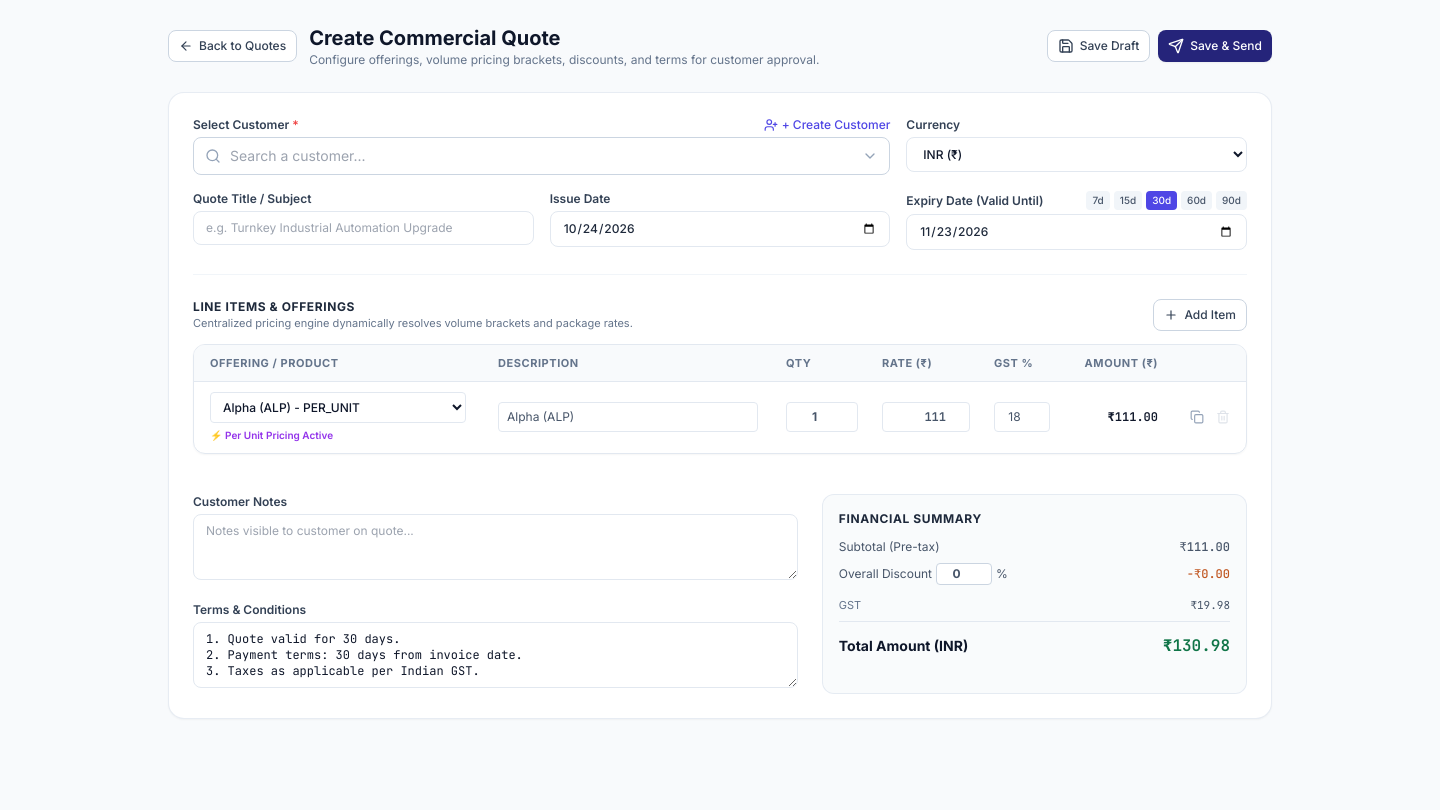
Test case: <QuoteFormPage /> archived offerings › adds new lines as a blank Custom Item that offers only active offerings
The image size is (1440, 810).
Click the button "Add Item": click(1200, 315) [1153,299,1247,331]
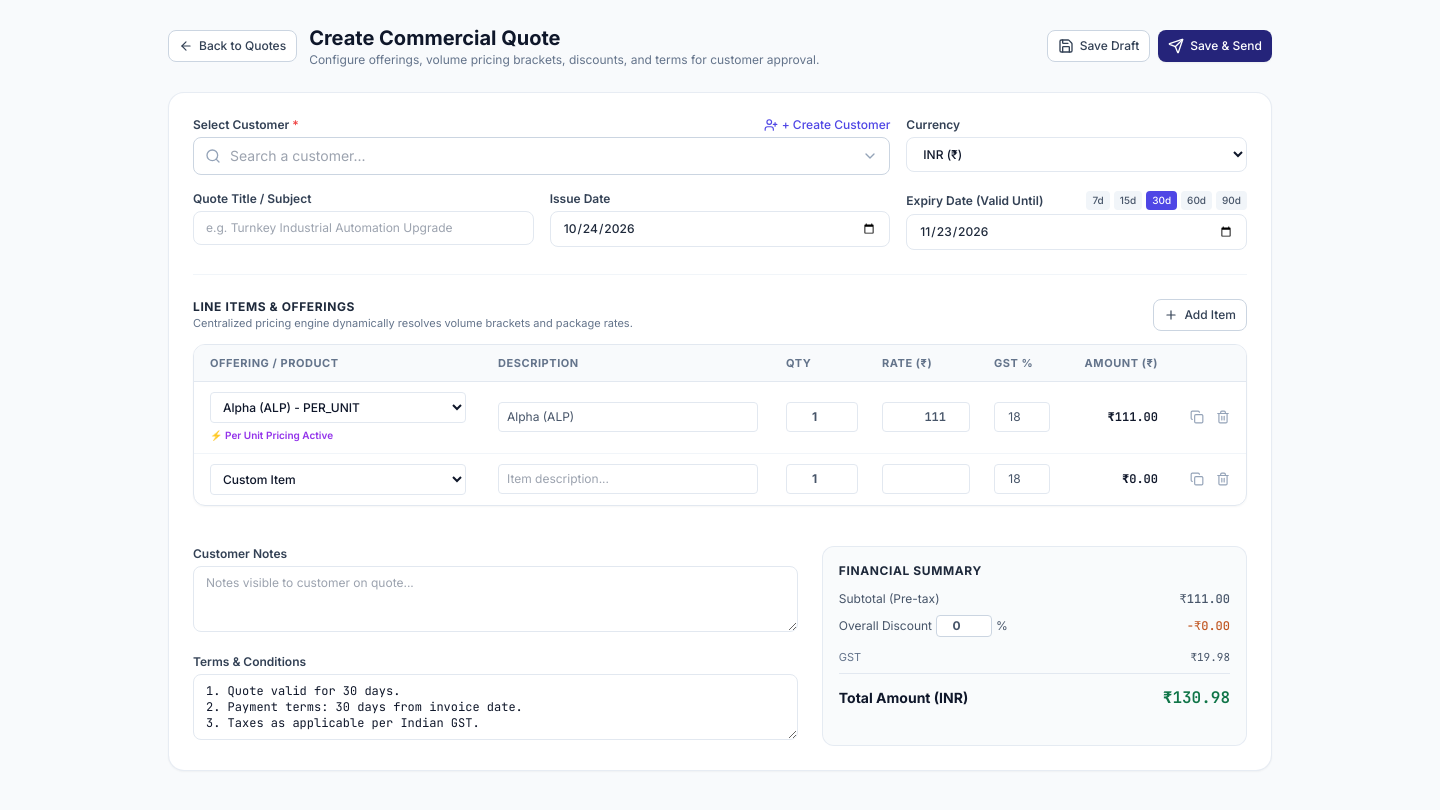
Check: the 5th number field is empty, box [882,464,970,494]
Check: the 4th dropdown shows "Custom Item", box [210,464,466,494]
